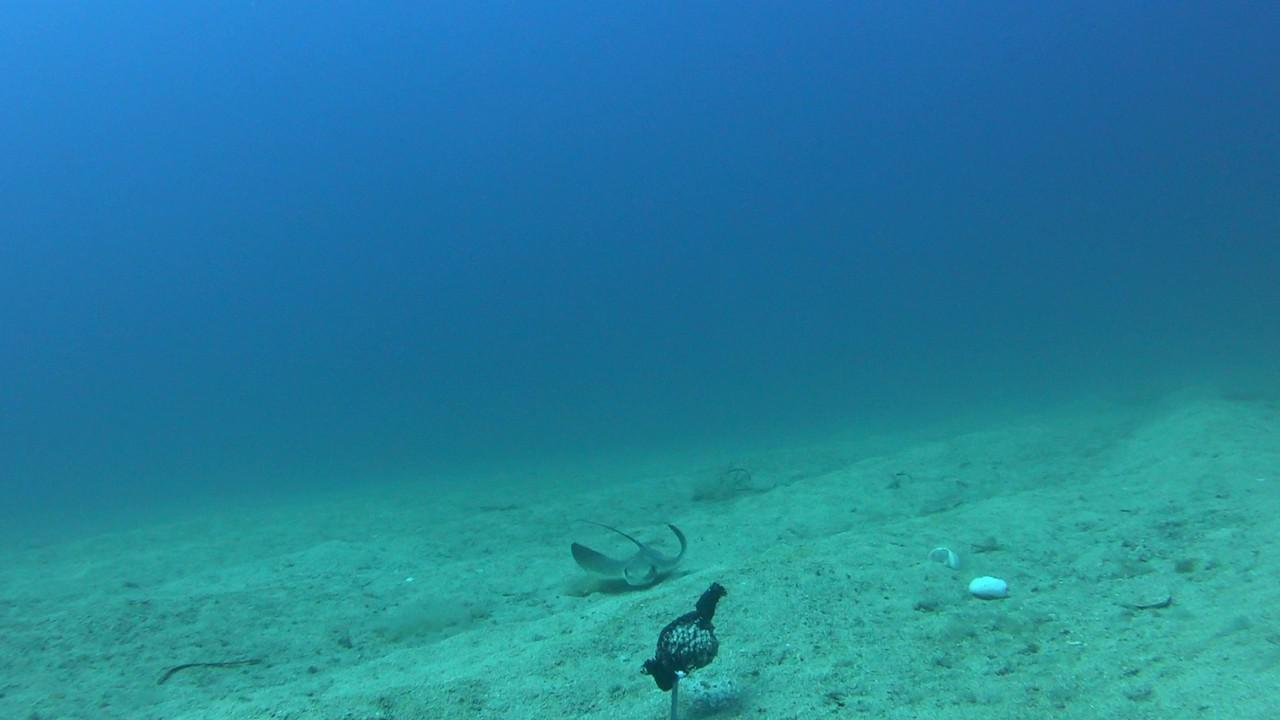myliobatis: (552, 520, 692, 590)
